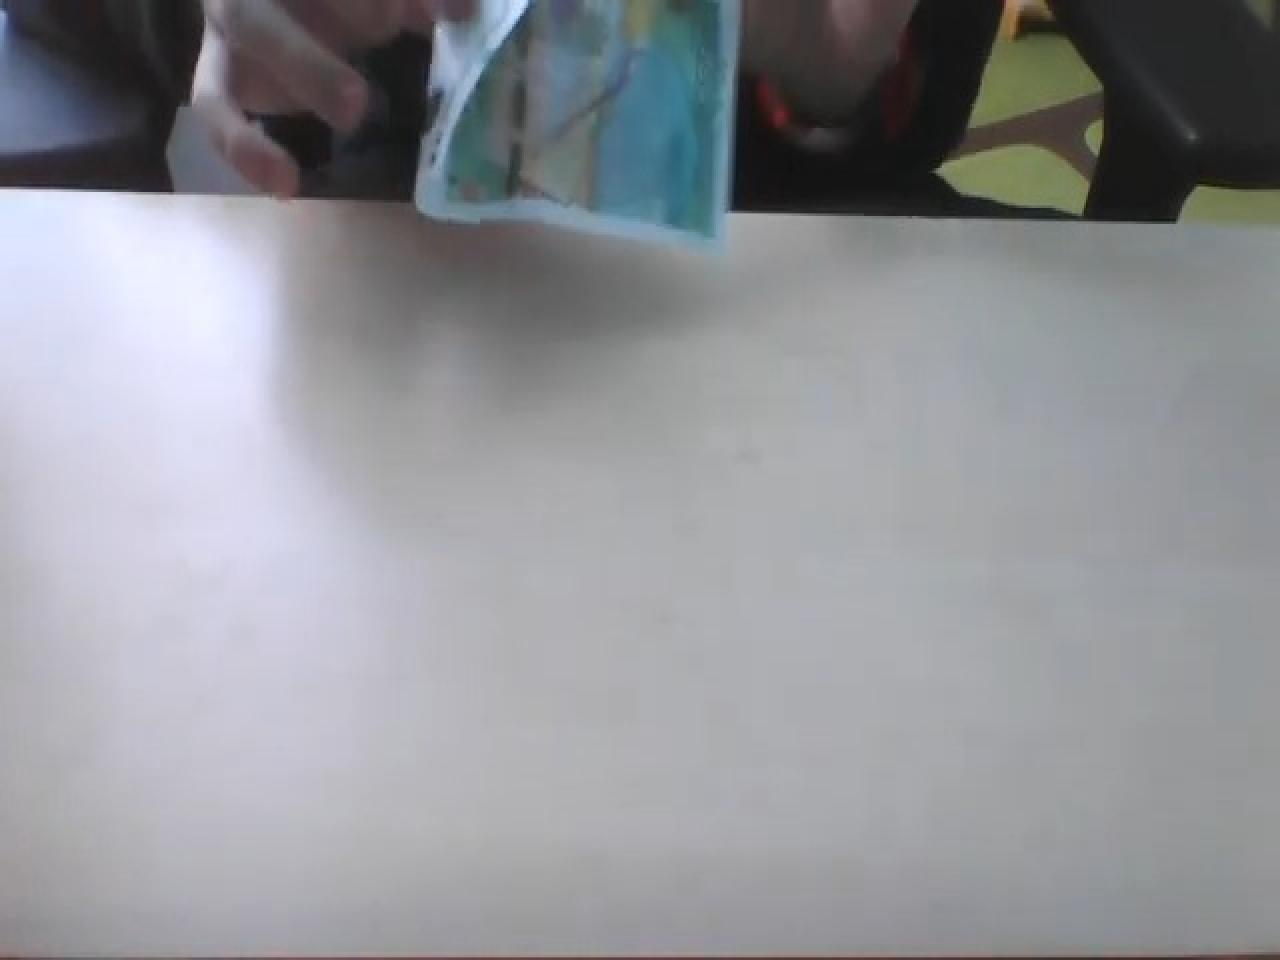100leva: (412, 0, 742, 245)
